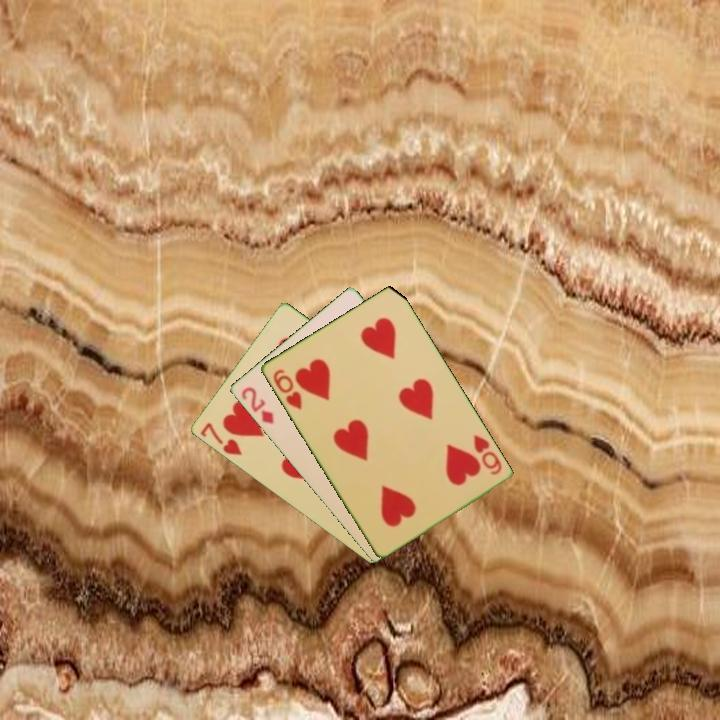2d: (237, 383, 276, 427)
6h: (269, 365, 304, 413), (470, 431, 504, 478)
7h: (196, 419, 245, 458)
